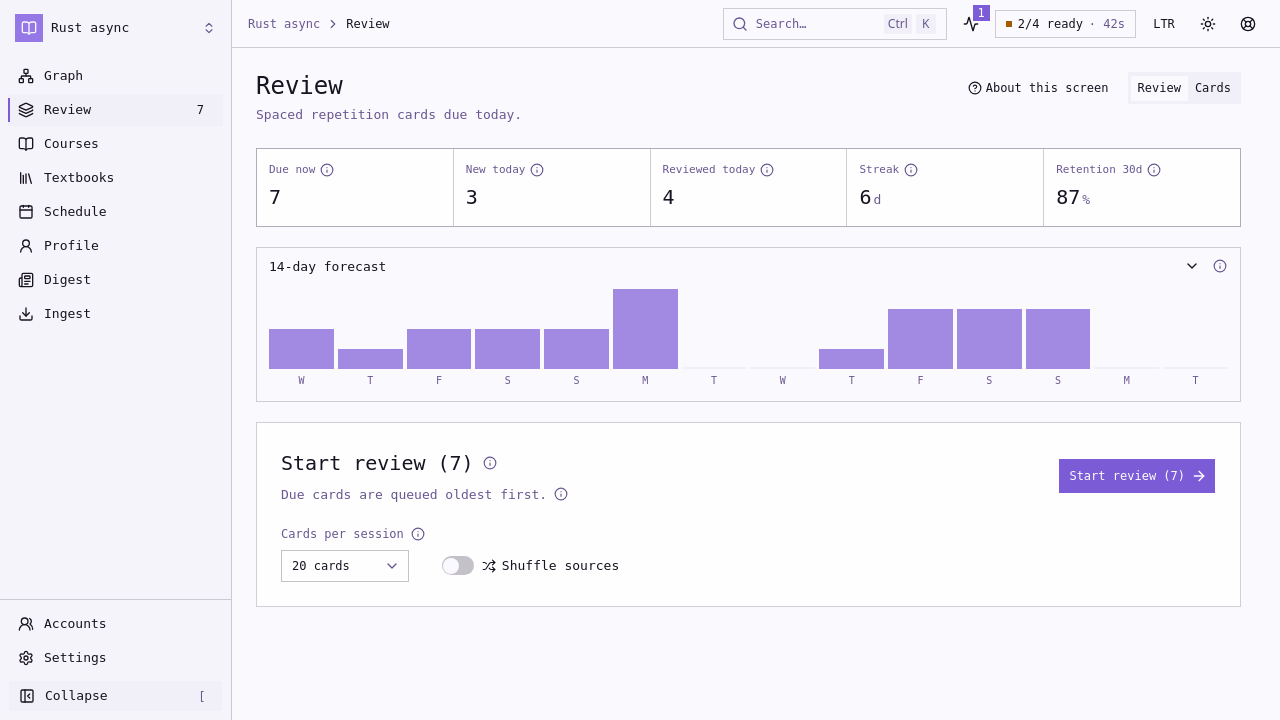
Scenario: review info › guide lists the key parts
The width and height of the screenshot is (1280, 720).
Click the button with test id "screen-guide-open". click: (1040,88)
box: [961,74,1120,102]
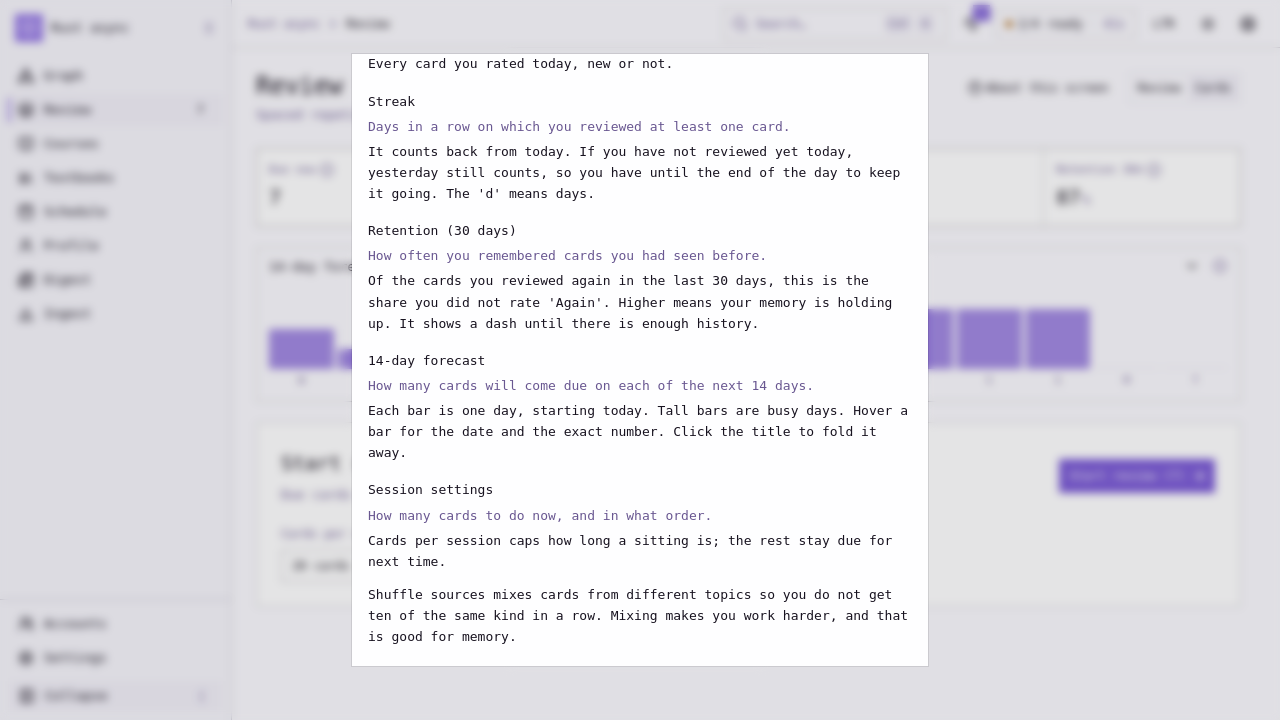
expect the text "Streak" is shown: met, box [368,94,415,108]
expect the text "14-day forecast" is shown: met, box [368,353,485,368]
